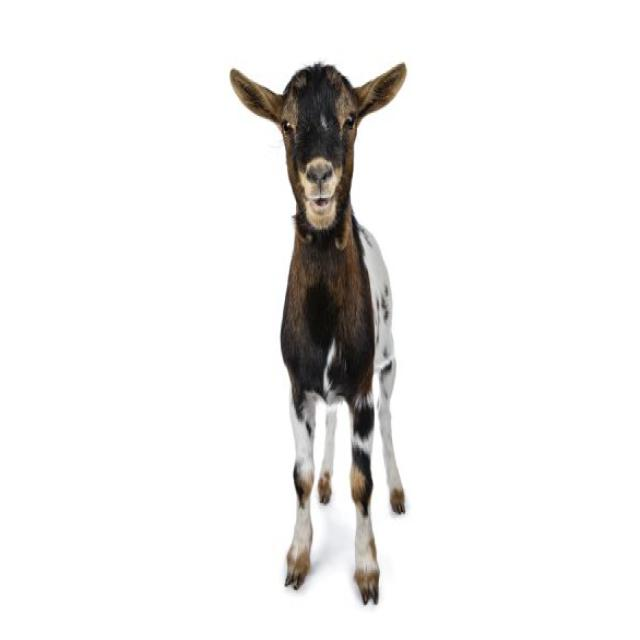goat: (230, 62, 406, 602)
